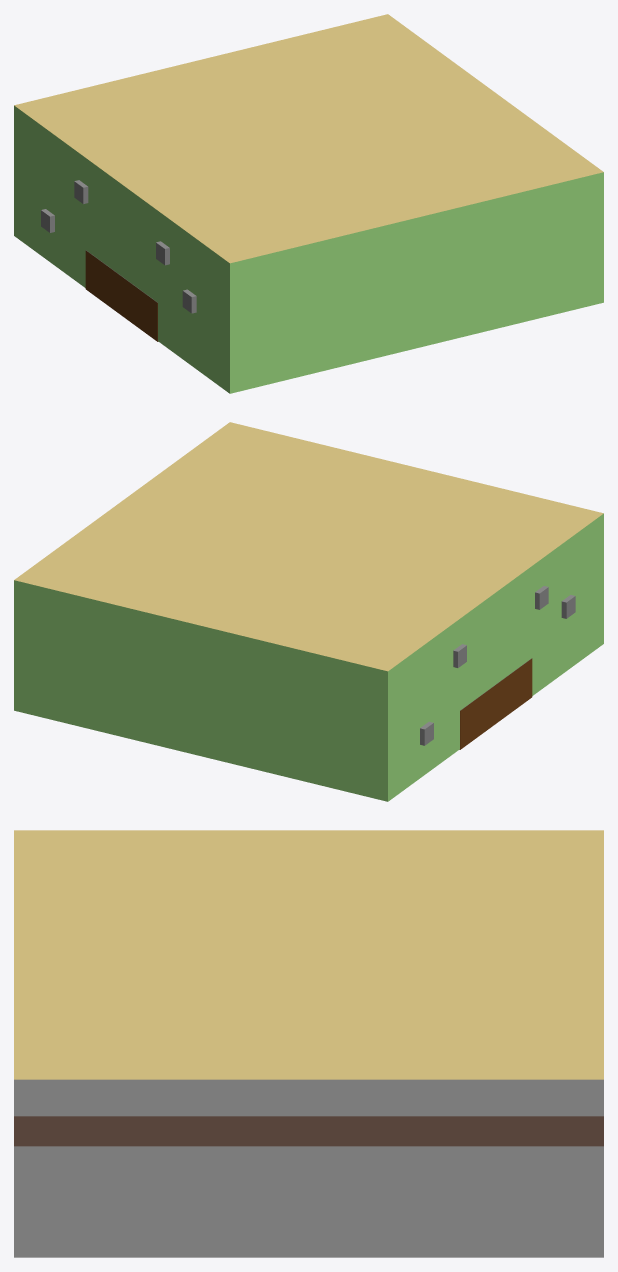
The model's file is WorkRoom.fbx.
3 renders of one model, top to bottom at view 1: azimuth 30°, elevation 25°; view 2: azimuth 150°, elevation 25°; view 3: azimuth 270°, elevation 25°, orthographic. The views are drawn at different scales.
Visible parts, largest first — view 1: Room1, Workbench, Stands; view 2: Room1, Workbench, Stands; view 3: Room1.
Part boxes in pixels (x1=…): Room1: x1=14, y1=14, x2=603, y2=393; Workbench: x1=85, y1=250, x2=158, y2=341; Stands: x1=41, y1=180, x2=196, y2=313; Room1: x1=14, y1=422, x2=603, y2=801; Workbench: x1=459, y1=658, x2=532, y2=749; Stands: x1=420, y1=586, x2=575, y2=745; Room1: x1=14, y1=830, x2=603, y2=1257.
Size of the model in its own units: 608 by 201 by 600.
